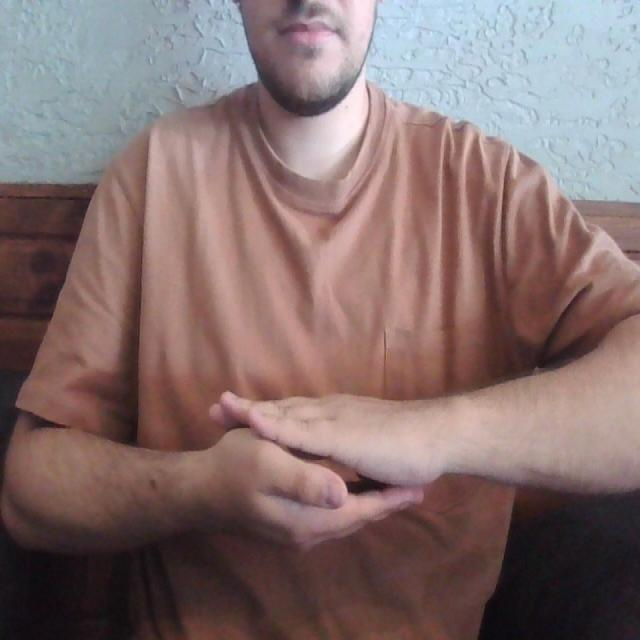Arkadas: (126, 351, 465, 558)
